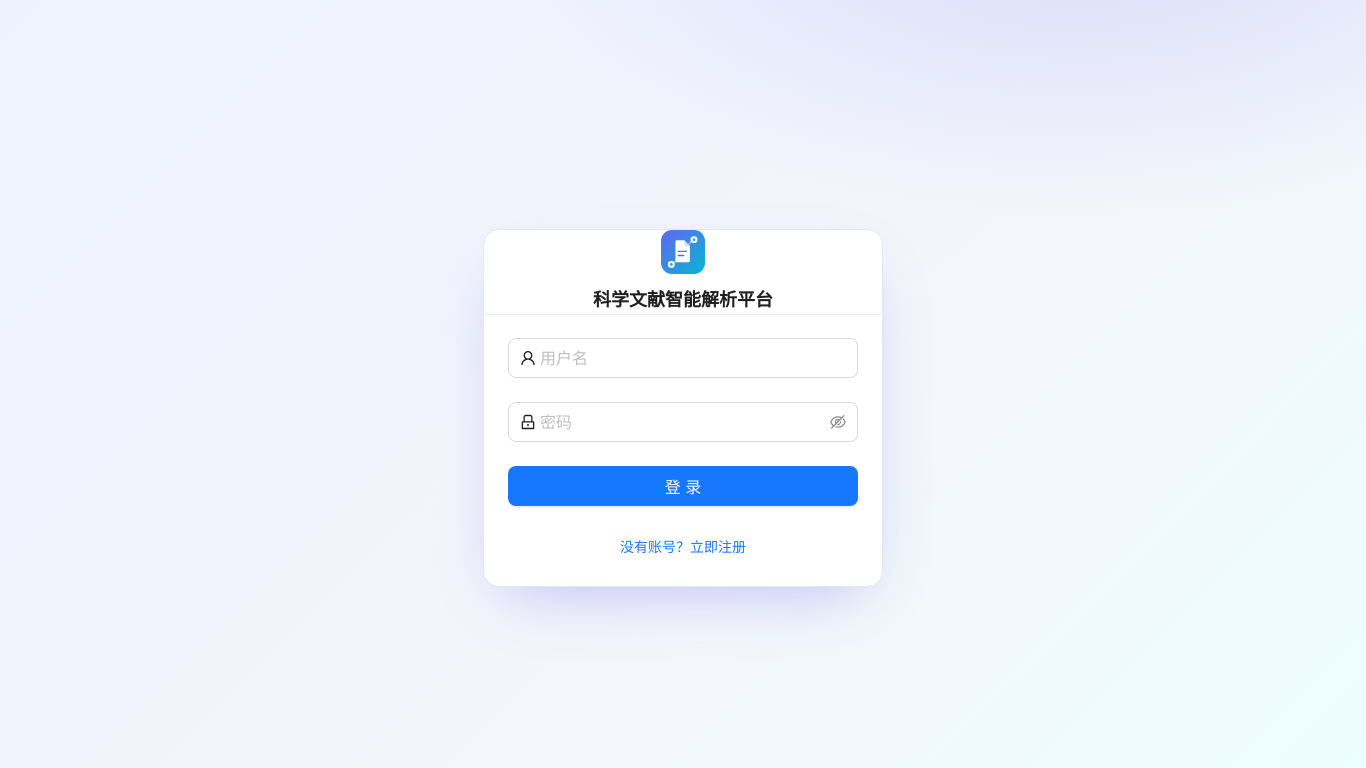
LoginPage › 点击注册链接打开注册弹窗
The width and height of the screenshot is (1366, 768).
What coordinates should you click on to do the following:
click the button "没有账号？立即注册"
I would click on:
 (683, 546)
Its box is top-left (508, 530), bottom-right (858, 562).
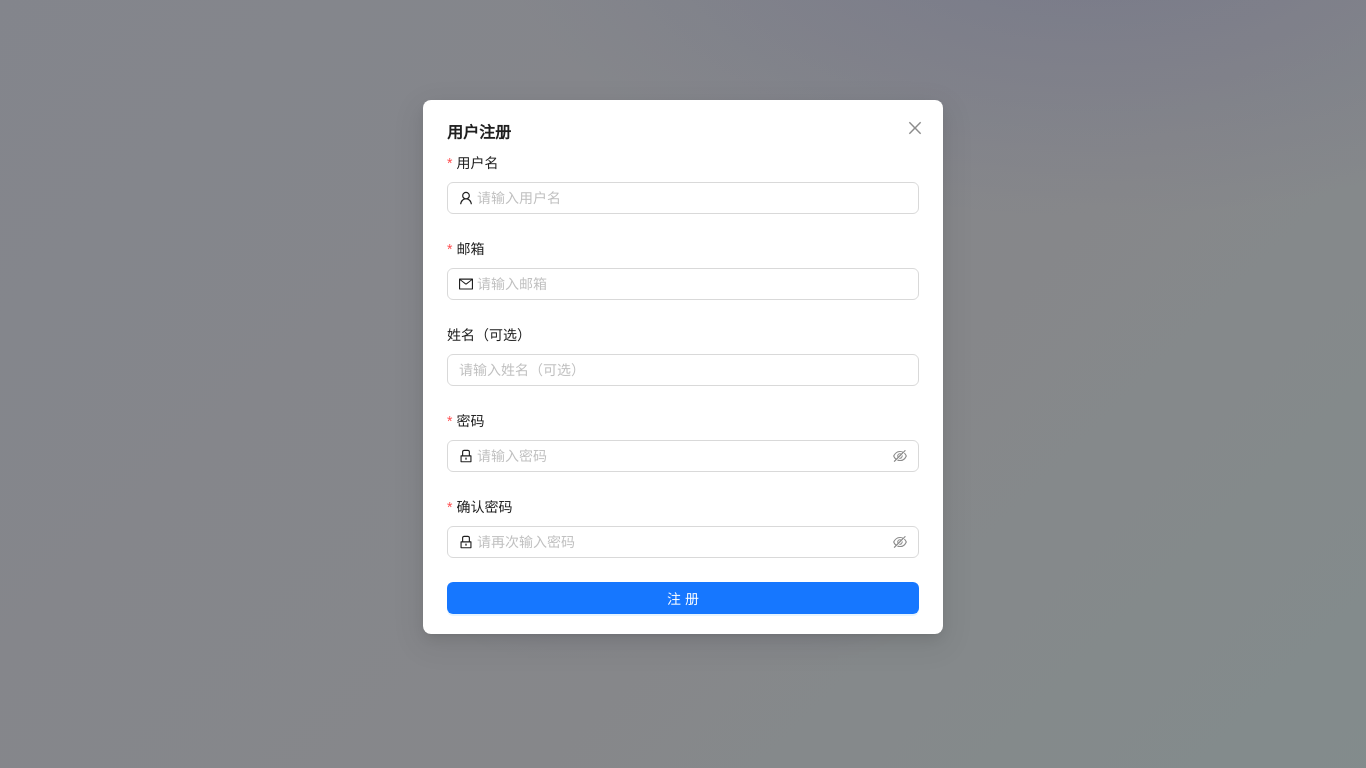
Check: the text "用户注册" is shown, box top-left (447, 122), bottom-right (511, 142)
Check: the field with placeholder "请输入邮箱" is shown, box top-left (477, 273), bottom-right (907, 295)
